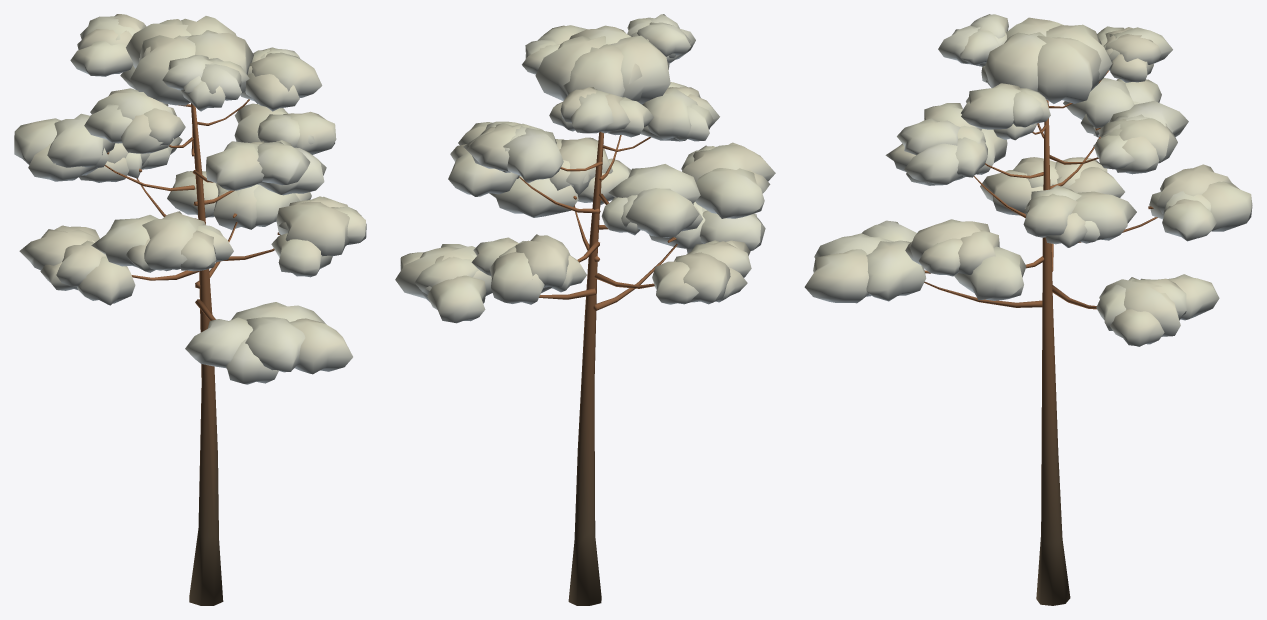
3 renders of one model, left to right at view 1: azimuth 30°, elevation 25°; view 2: azimuth 150°, elevation 25°; view 3: azimuth 270°, elevation 25°, orthographic. The views are drawn at different scales.
Visible parts, largest first — view 1: crown, trunk; view 2: crown, trunk; view 3: crown, trunk.
Part boxes in pixels (box(x1,y1,x2,y2)): crown: box(14, 14, 366, 384); trunk: box(104, 99, 280, 605); crown: box(395, 14, 775, 323); trunk: box(519, 132, 677, 605); crown: box(804, 14, 1252, 346); trunk: box(924, 70, 1157, 605).
Bounding box in the file's own units: 9.69 × 17.46 × 12.68.
